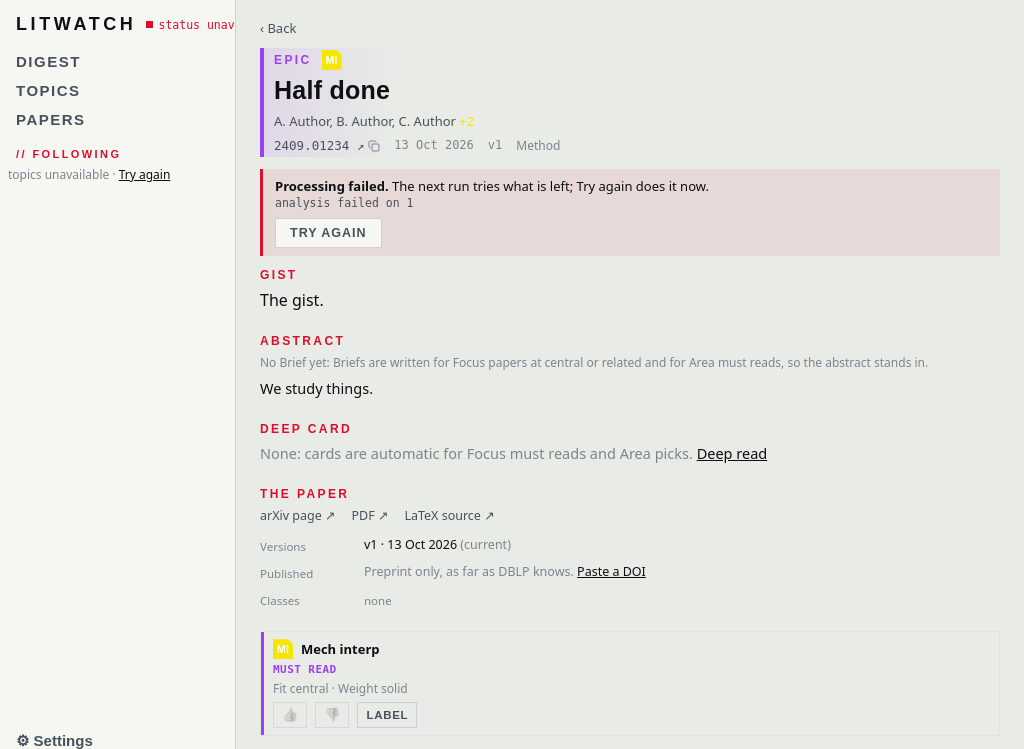
Test: a paper's page › offers Try again on a Process job that failed after classifying the paper, and then says Processing
The image size is (1024, 749).
Expected: the text "analysis failed on 1" is shown, [275,196,414,210]
Click the button "Try again" below "analysis failed on 1": (328, 233) [275,218,382,248]
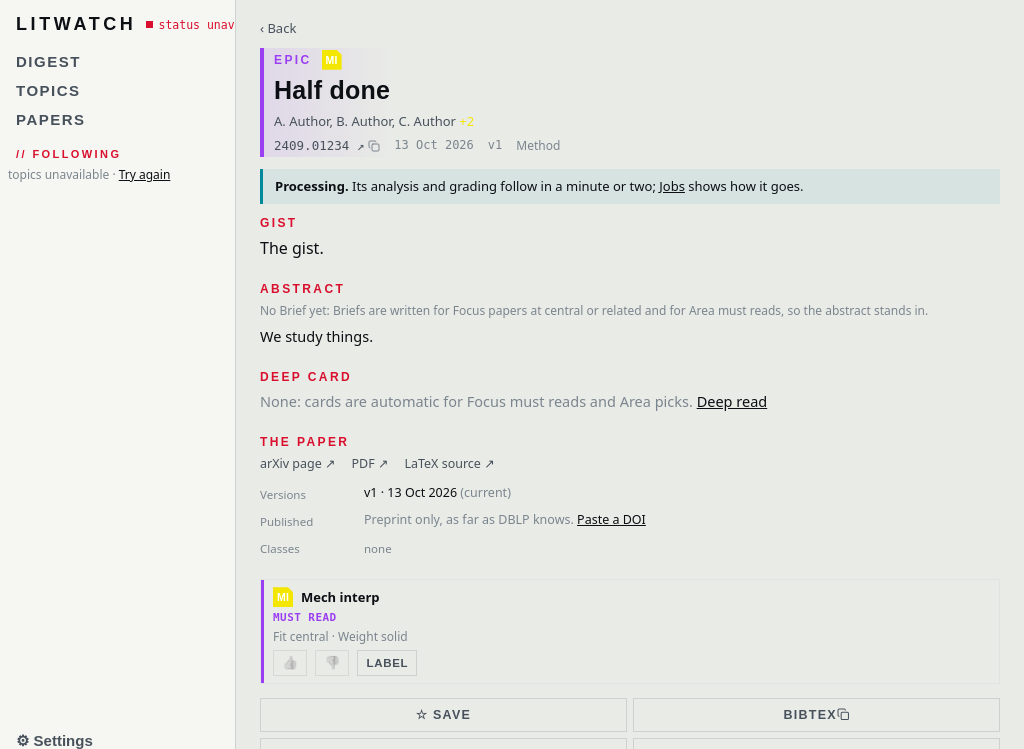
Expected: the text "Processing." is shown, [275,177,349,195]
Now the text "Processing failed." is gone
